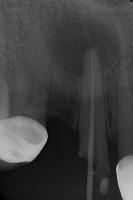Furcation Involvement: (49, 14, 121, 77)
